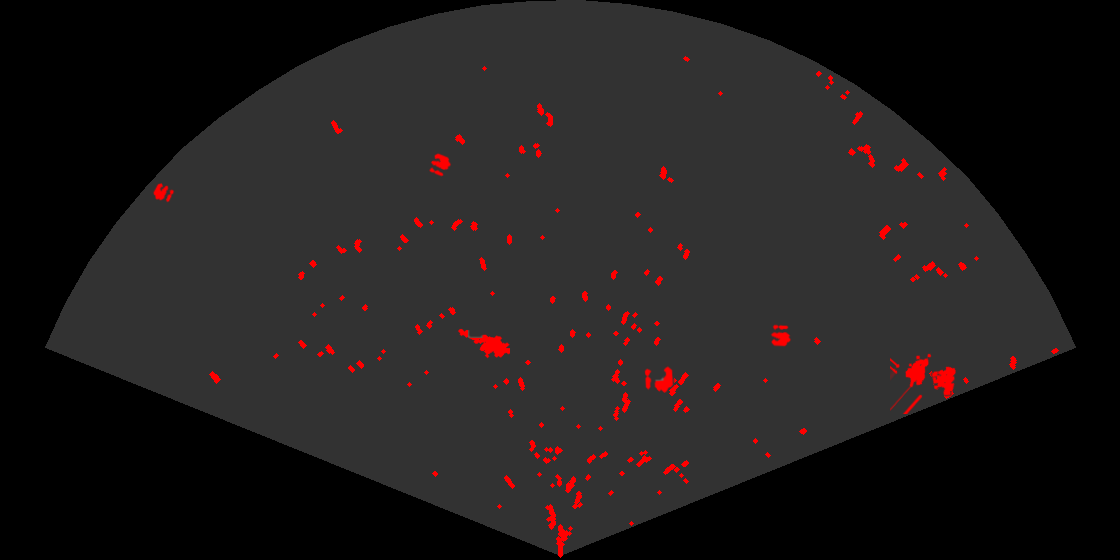ball: (643, 364, 675, 394), (428, 152, 453, 178), (769, 323, 793, 348), (151, 181, 176, 204)
cage: (890, 352, 958, 414)
frogman: (456, 327, 510, 360)
